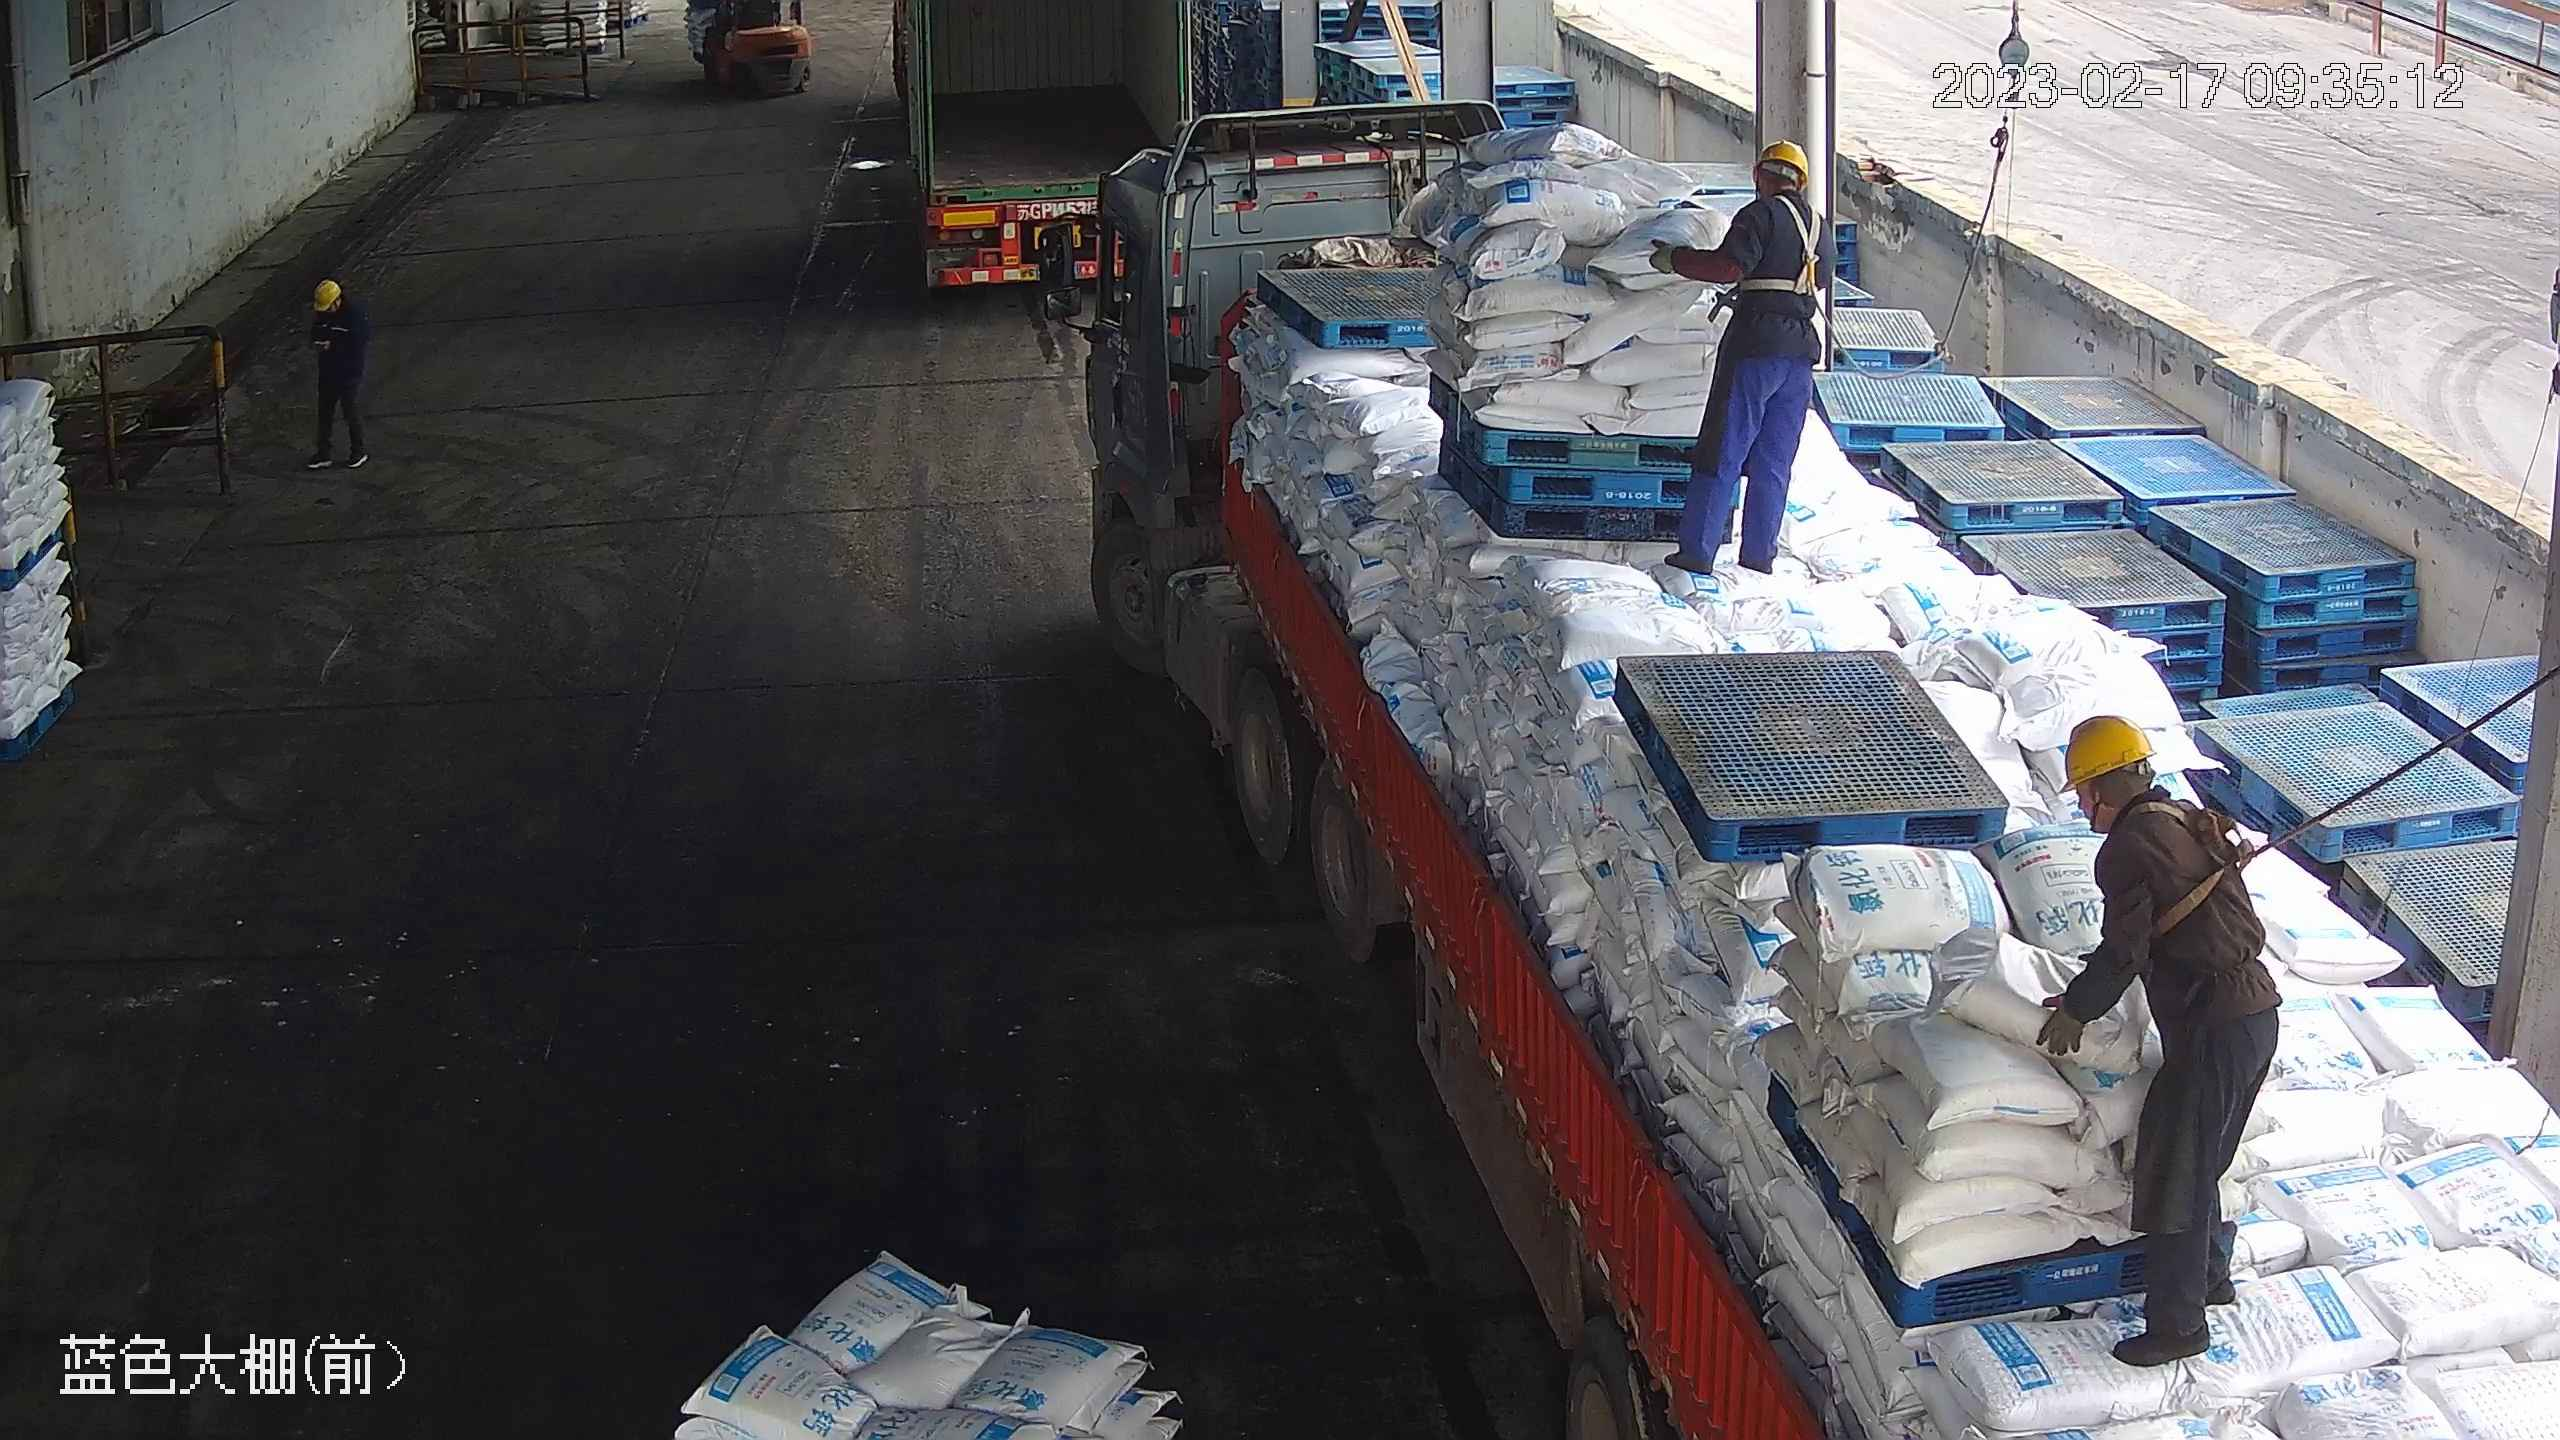belt: (2118, 794, 2274, 940), (1737, 196, 1825, 298)
head: (2057, 712, 2238, 874), (1721, 140, 1828, 248), (307, 277, 366, 334)
helmet: (2055, 713, 2156, 791), (1754, 139, 1811, 188), (309, 277, 339, 307)
people: (2036, 709, 2287, 1369), (1649, 136, 1830, 578), (303, 277, 372, 472)
truck: (1036, 81, 2557, 1439), (883, 1, 1194, 291)
